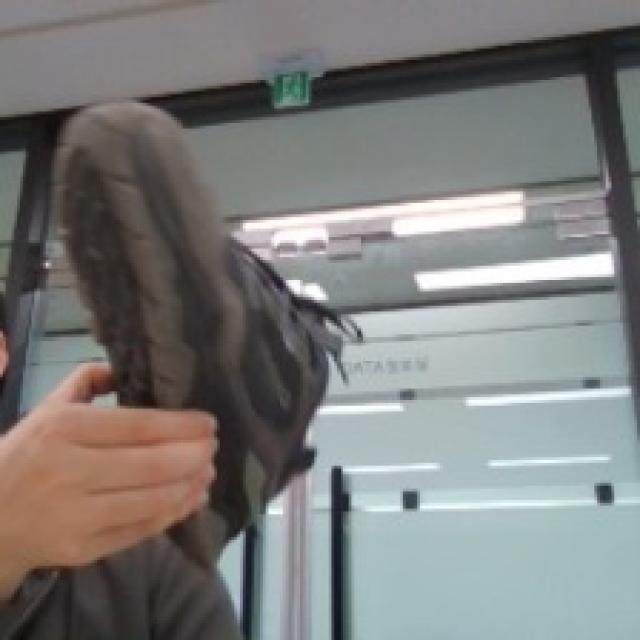shoe: (26, 67, 381, 566)
